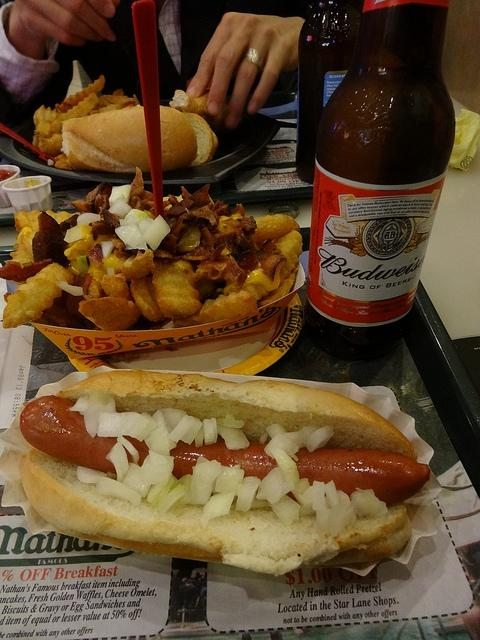onion: (97, 412, 157, 442), (83, 392, 117, 438), (255, 467, 294, 504), (200, 492, 234, 532), (97, 477, 141, 506), (144, 410, 170, 456), (120, 462, 152, 498), (350, 488, 388, 518), (267, 494, 302, 526), (142, 214, 171, 252), (140, 455, 174, 484), (215, 465, 245, 496), (114, 222, 147, 250), (106, 442, 129, 482), (264, 432, 299, 458), (236, 476, 261, 512), (216, 424, 250, 450), (157, 484, 186, 514), (306, 424, 335, 452), (188, 475, 213, 505), (168, 416, 196, 442), (152, 476, 175, 506), (159, 408, 186, 433), (116, 436, 140, 464), (179, 417, 202, 445), (174, 474, 192, 508), (328, 506, 346, 538), (108, 185, 132, 208), (64, 224, 92, 243), (77, 466, 108, 483), (291, 478, 310, 505), (108, 198, 132, 219), (324, 479, 341, 508), (70, 394, 90, 415), (204, 417, 218, 446), (56, 281, 83, 296), (147, 483, 167, 503), (282, 462, 300, 484), (313, 480, 326, 510), (283, 431, 303, 448), (148, 450, 169, 466), (220, 414, 244, 428), (124, 208, 151, 220), (77, 213, 100, 226), (266, 424, 286, 438), (202, 419, 214, 442), (139, 218, 154, 235), (301, 486, 313, 507), (101, 240, 115, 258), (194, 426, 205, 448), (251, 498, 269, 508), (127, 214, 140, 224), (259, 432, 268, 446), (337, 489, 344, 502), (119, 218, 130, 226)
